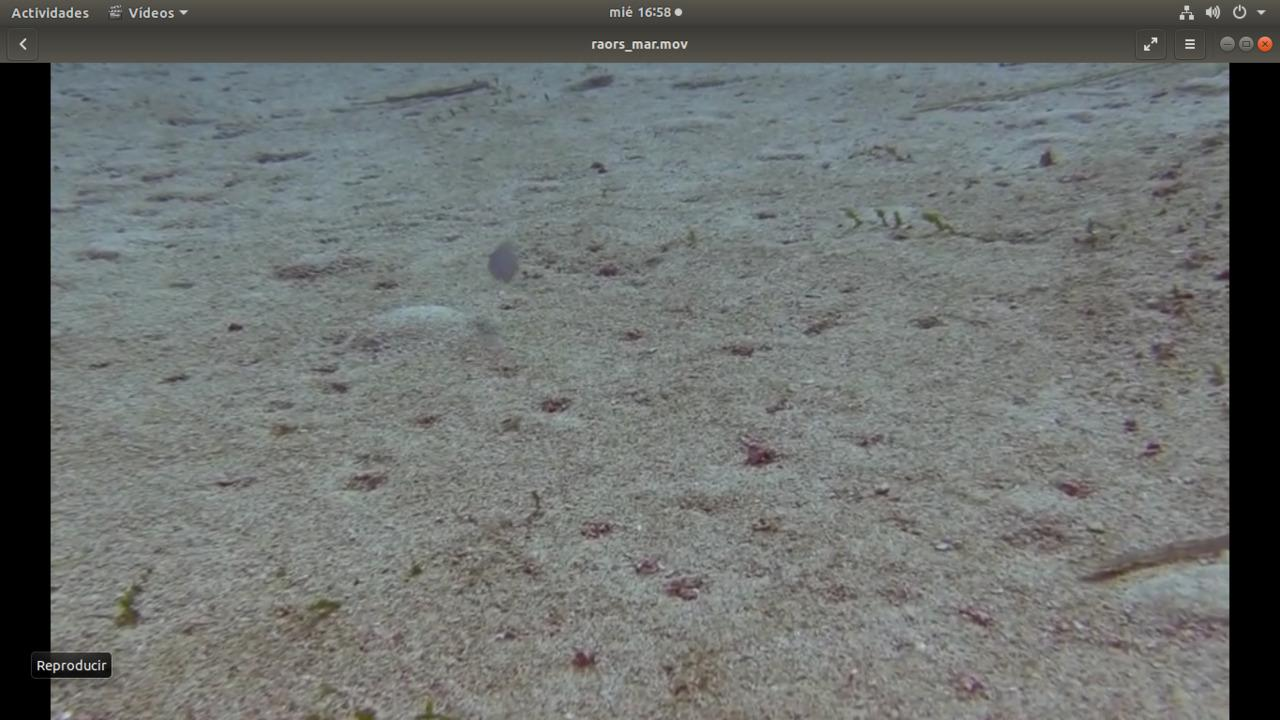raor: (470, 232, 534, 286)
